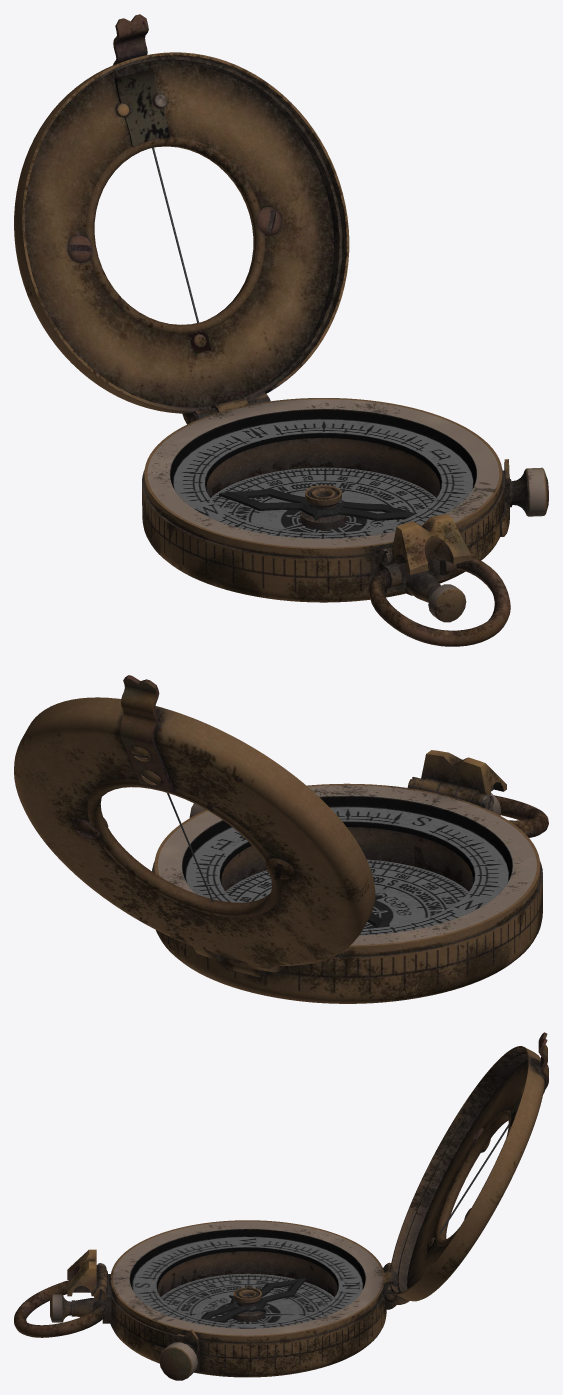
File: seadogs-compass.glb
The picture shows the model from 3 angles, top to bottom: view 1: azimuth 30°, elevation 25°; view 2: azimuth 150°, elevation 25°; view 3: azimuth 270°, elevation 25°; orthographic projection. The views are drawn at different scales.
Parts seen in each view (by area): view 1: seadogs_compass_lid, seadogs_compass, seadogs_compass_needle; view 2: seadogs_compass_lid, seadogs_compass; view 3: seadogs_compass, seadogs_compass_lid, seadogs_compass_needle.
Part boxes in pixels (<box>): seadogs_compass_lid: <box>14,14,349,424</box>; seadogs_compass: <box>142,398,548,646</box>; seadogs_compass_needle: <box>219,488,415,520</box>; seadogs_compass_lid: <box>14,675,375,972</box>; seadogs_compass: <box>152,750,548,1003</box>; seadogs_compass: <box>14,1220,397,1380</box>; seadogs_compass_lid: <box>382,1032,548,1305</box>; seadogs_compass_needle: <box>201,1278,306,1322</box>.
Bounding box in the file's own units: 0.0813 × 0.0866 × 0.1441.
Materials: 1 (1 with a texture image).
